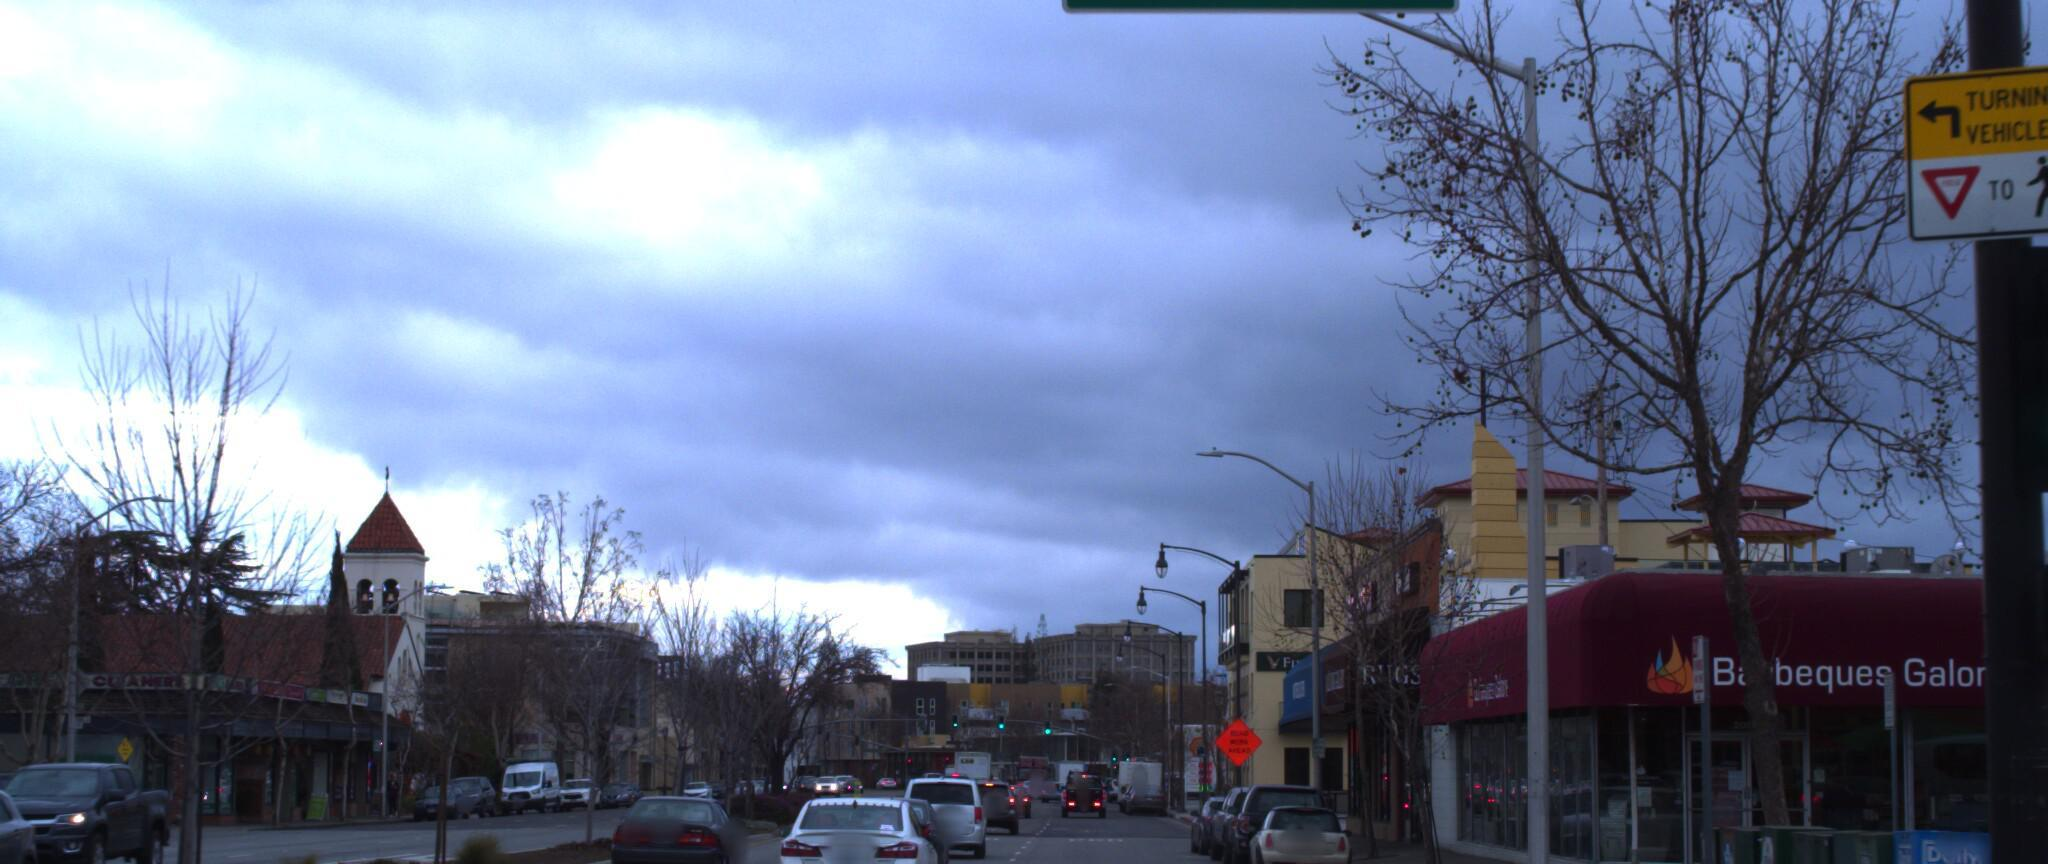car: (767, 780, 938, 864), (600, 778, 746, 864), (1234, 799, 1347, 864), (917, 770, 1003, 844)
